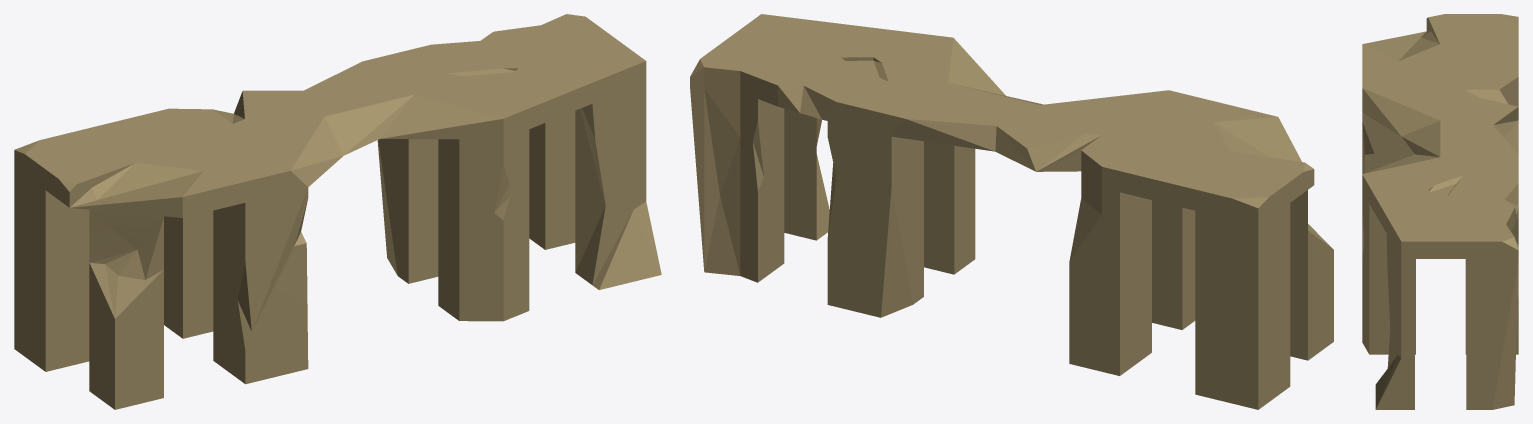
File: desert_48.fbx
3 views of the same model, side by side, from view 1: azimuth 30°, elevation 25°; view 2: azimuth 150°, elevation 25°; view 3: azimuth 270°, elevation 25° (orthographic). The views are drawn at different scales.
Parts seen in each view (by area): view 1: desert_48; view 2: desert_48; view 3: desert_48.
Boxes of the visible parts, x1,y1,x2,y2 form: desert_48: (14,14,661,409); desert_48: (690,14,1333,409); desert_48: (1362,14,1518,409).
Size of the model in its own units: 16.15 by 5.57 by 4.69.
1 material, 1 textured.
